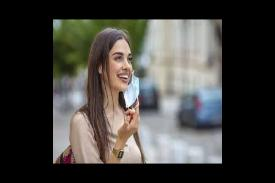mask_weared_incorrect: (113, 50, 137, 96)
